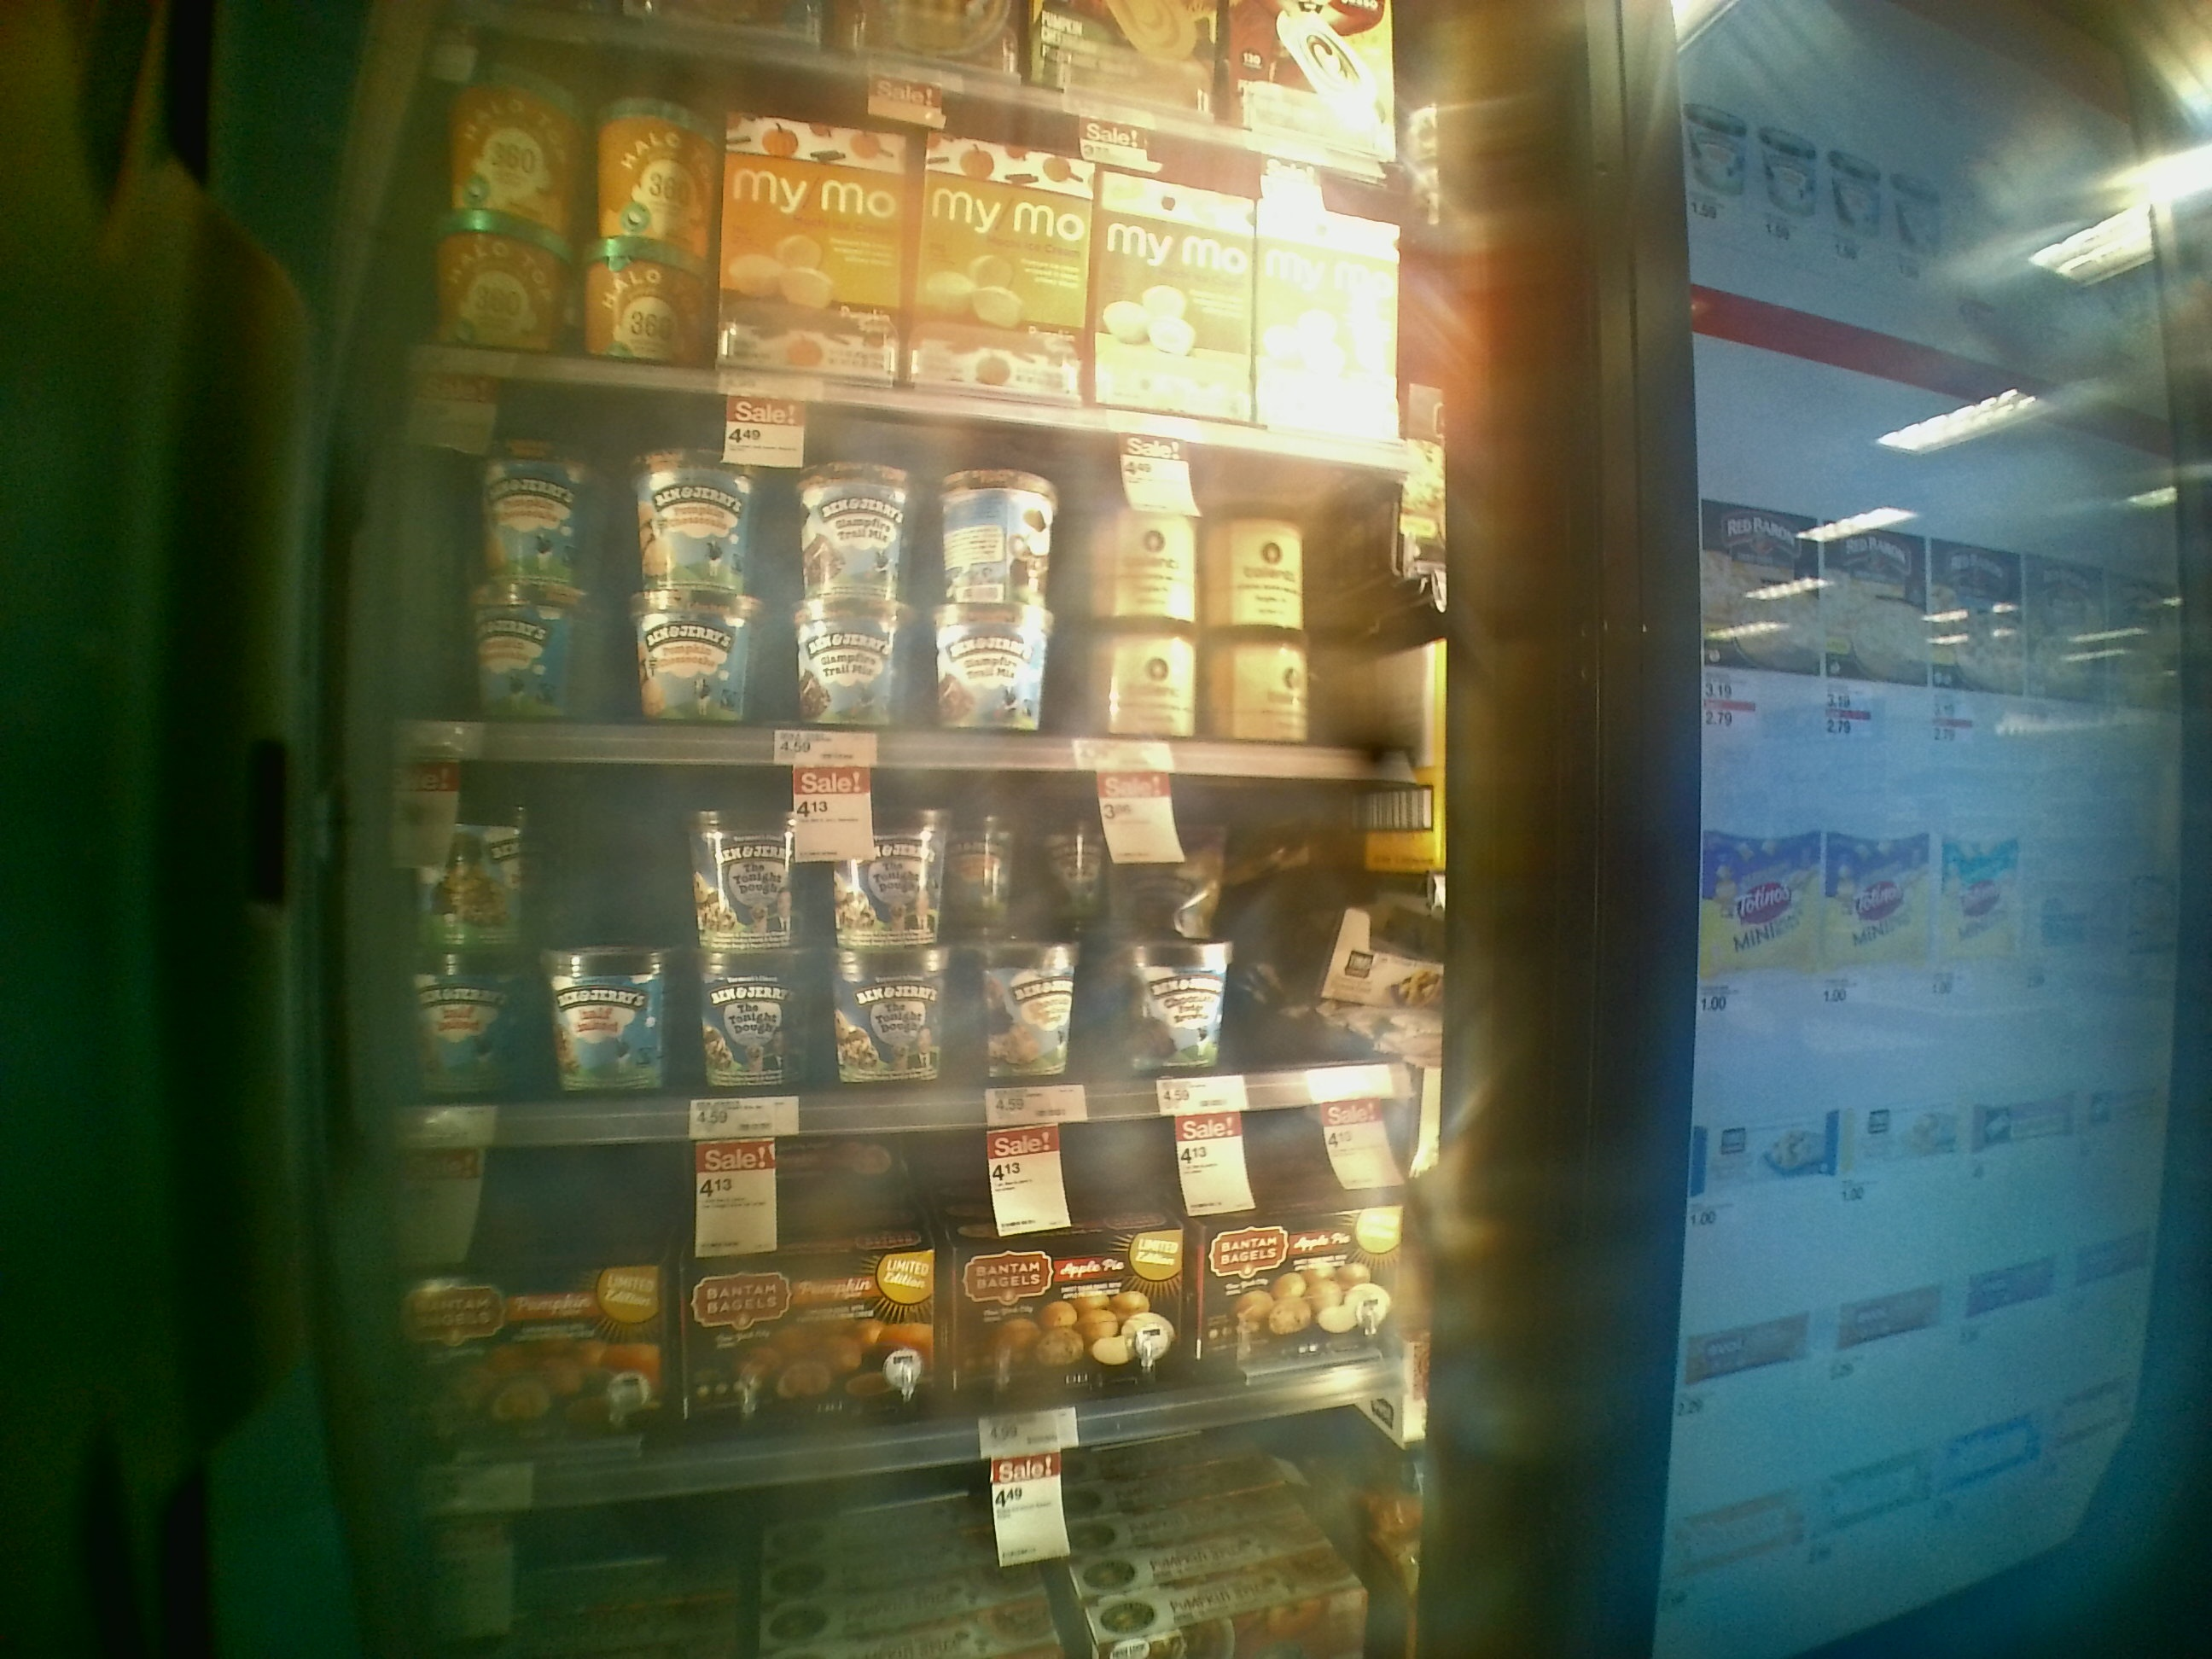shelf: (387, 364, 1449, 791), (374, 788, 1463, 1121), (381, 1143, 1442, 1481)
